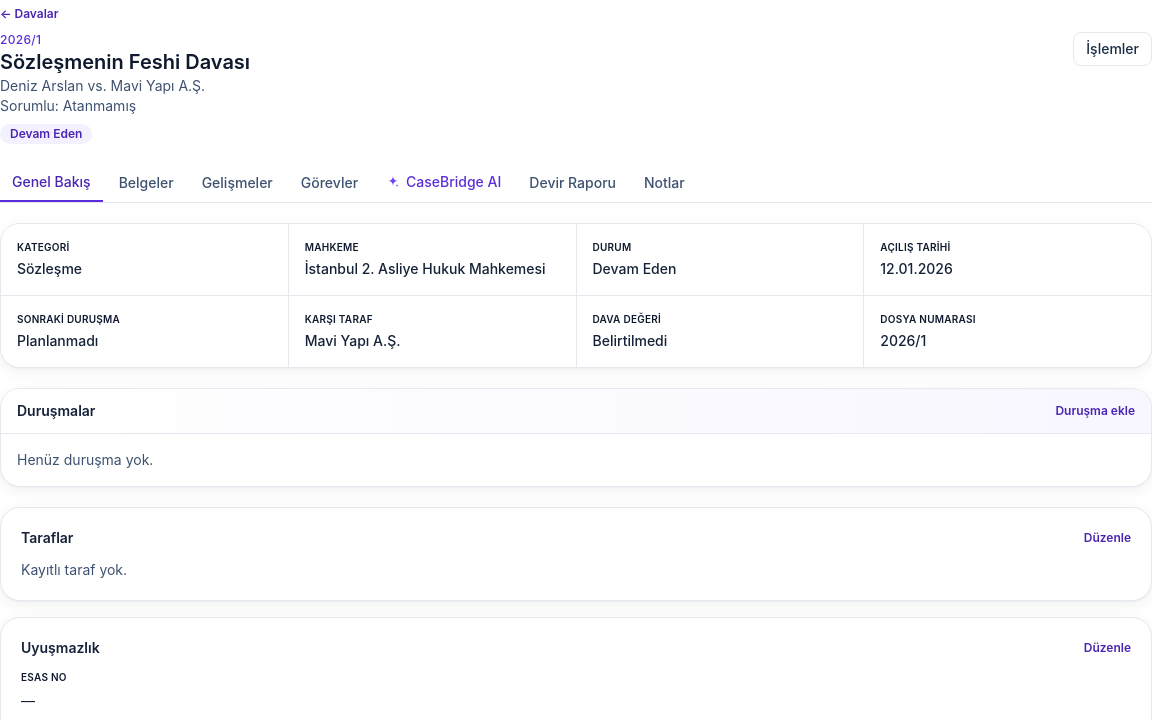
Bilgileri düzenle › keeps the dialog open and shows the server's message when saving fails
This screenshot has width=1152, height=720.
Check: the heading "Sözleşmenin Feshi Davası" is shown, box [0,48,250,76]
Click the button "İşlemler": (1113, 49) [1073,32,1151,66]
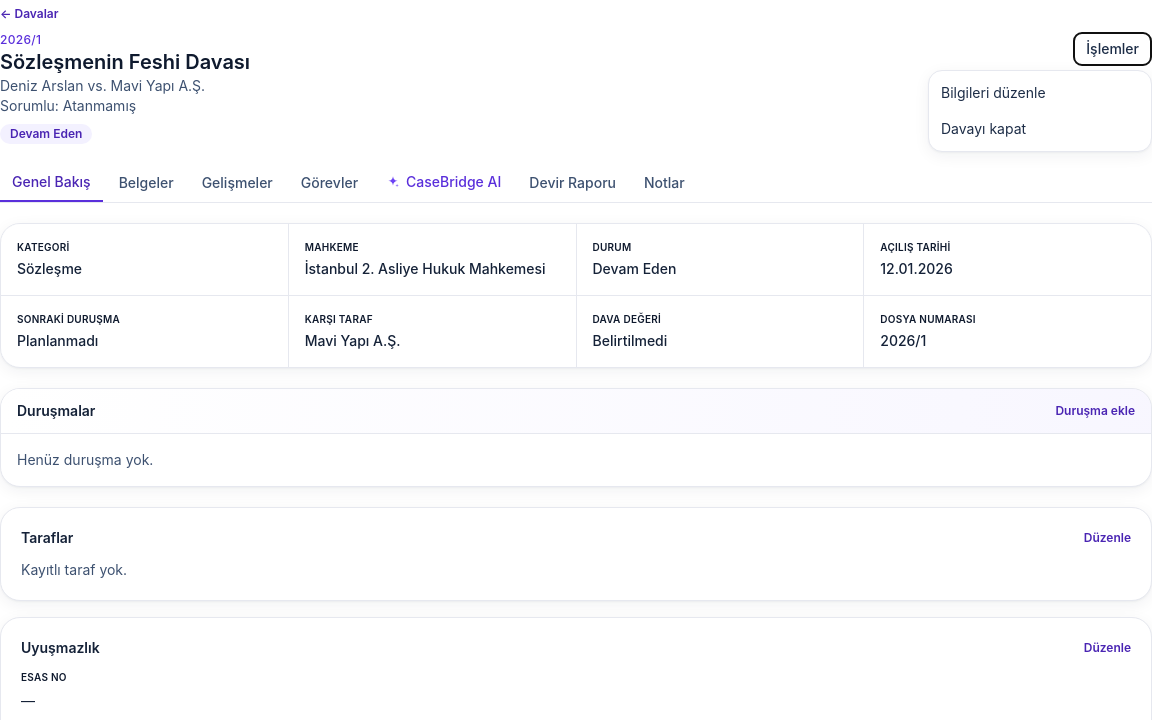
Click the menu item "Bilgileri düzenle": (1040, 93) [929,75,1151,111]
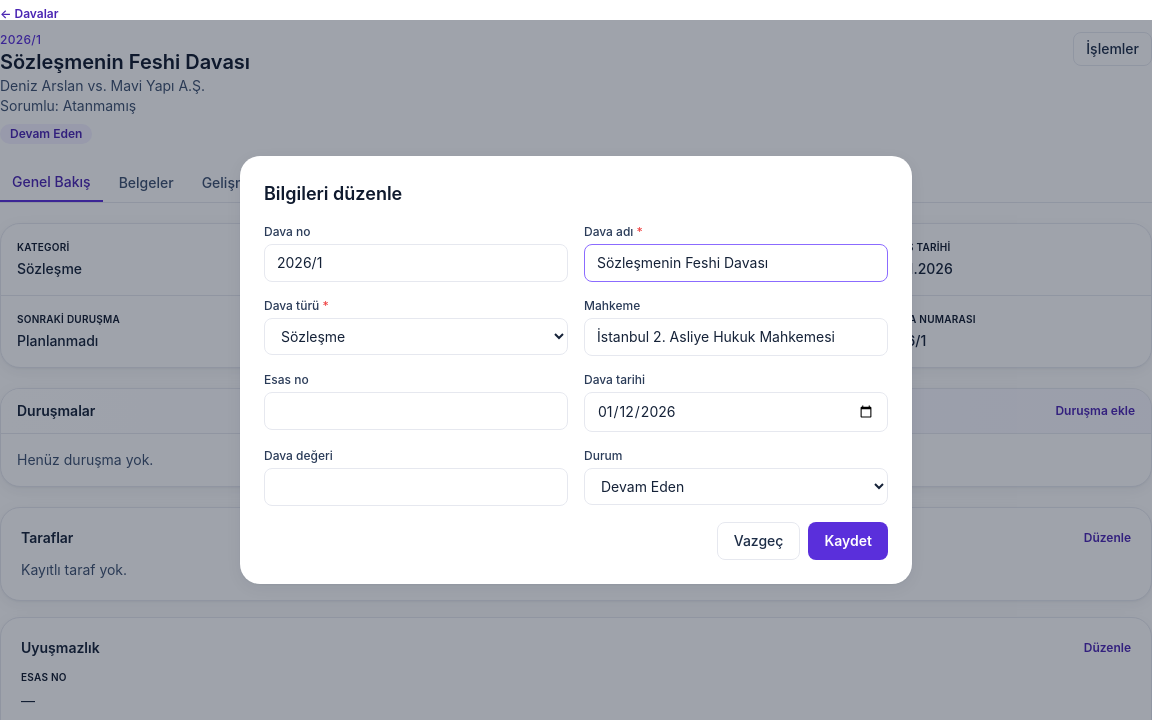
Click the button "Kaydet": (848, 541) [808,522,888,560]
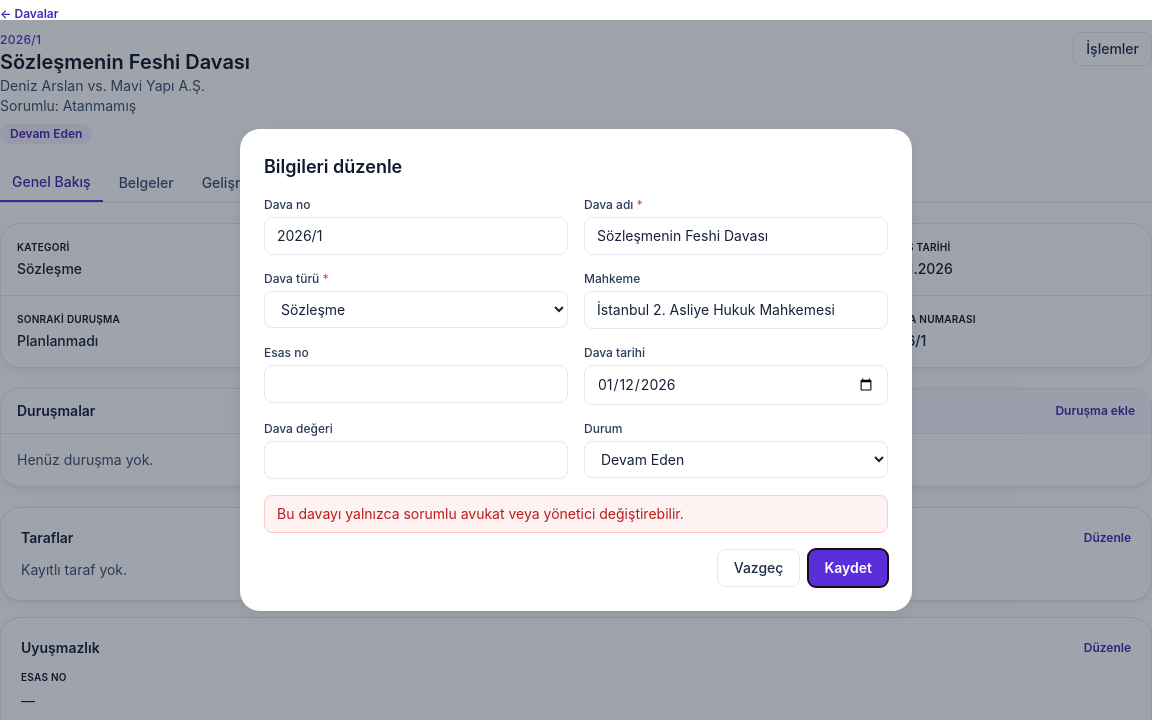
Check: the dialog "Bilgileri düzenle" is shown, box [240,129,912,611]
Check: the message reads "Bu davayı yalnızca sorumlu avukat veya yönetici değiştirebilir.", box [277,505,684,522]
